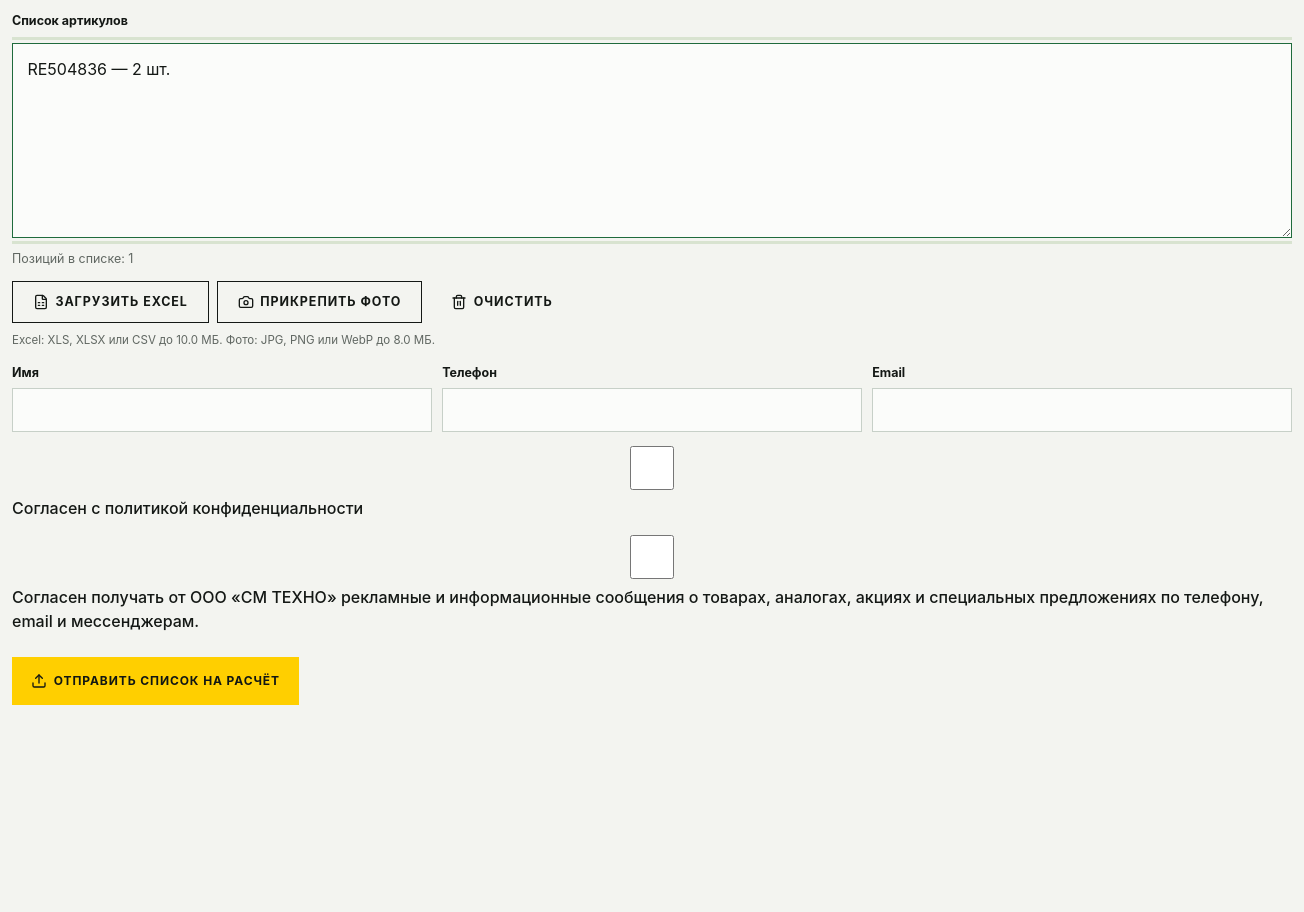
it: BulkPartsRequest › restores the saved list and lets the user clear it
The image size is (1304, 912).
Expected: the text box labelled "Список артикулов" holds "RE504836 — 2 шт.", [12,43,1292,238]
Click the button "Очистить": (502, 302) [430,281,574,323]
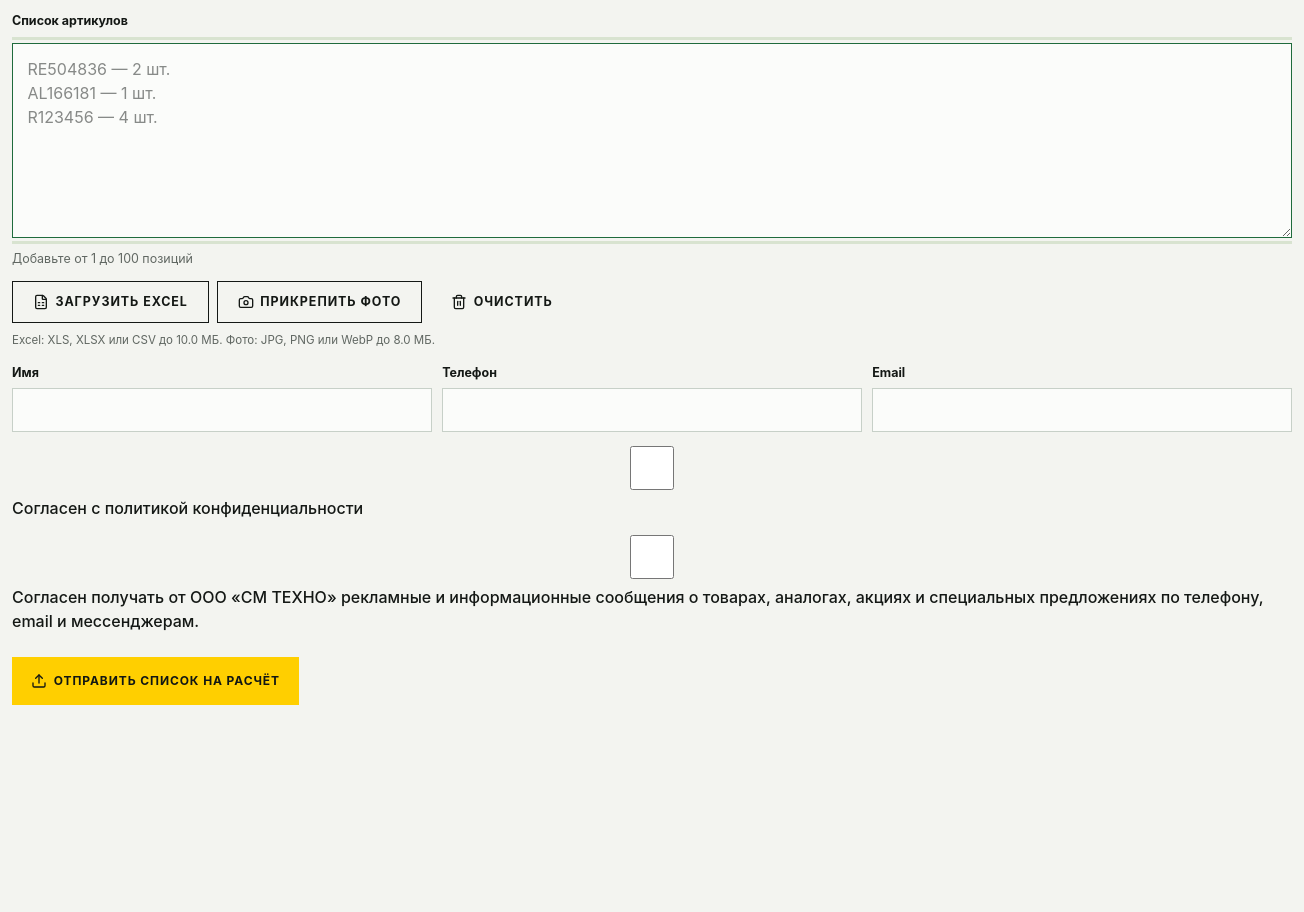
Expected: the text box labelled "Список артикулов" is empty, [12,43,1292,238]
